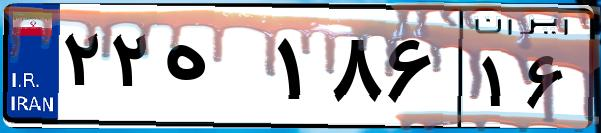1: (270, 28, 330, 110), (475, 38, 525, 113)
2: (57, 26, 110, 100), (110, 28, 158, 98)
6: (385, 28, 445, 110), (525, 38, 570, 115)
8: (330, 28, 385, 110)
ه: (158, 20, 270, 120)
